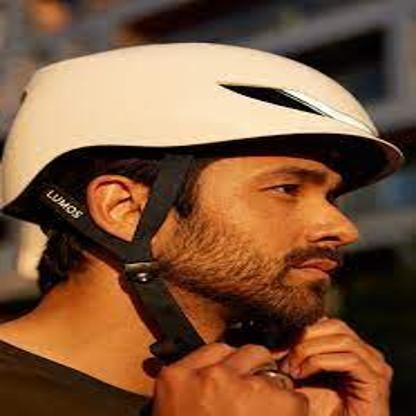not trash: (3, 44, 406, 224)
